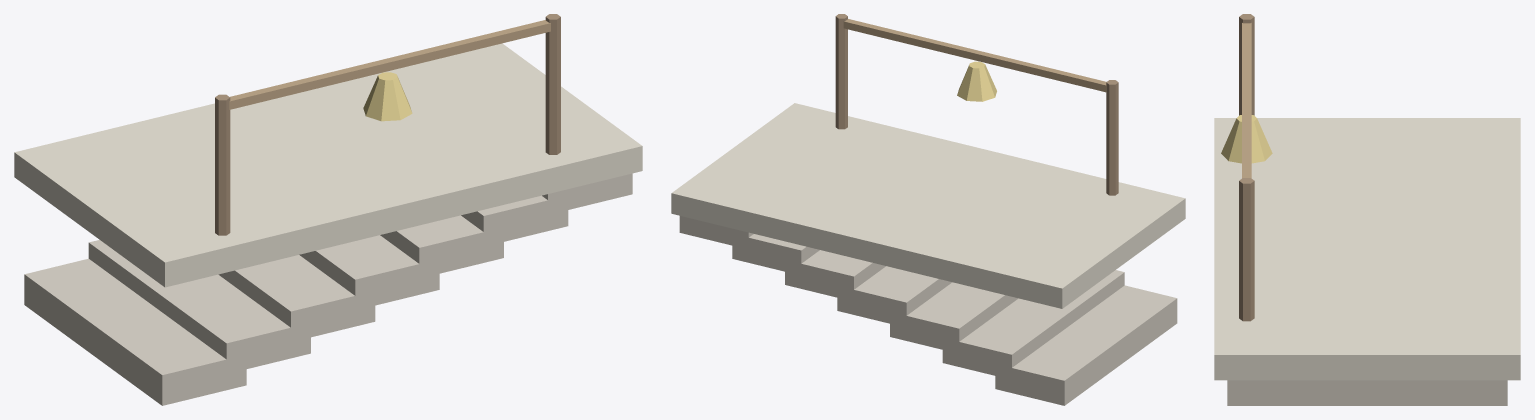
The model's file is bellmakers_stair_near-B_xurW0-.glb.
The picture shows the model from 3 angles, left to right: view 1: azimuth 30°, elevation 25°; view 2: azimuth 150°, elevation 25°; view 3: azimuth 270°, elevation 25°; orthographic projection. The views are drawn at different scales.
Parts seen in each view (by area): view 1: bellmakers_stair_near; view 2: bellmakers_stair_near; view 3: bellmakers_stair_near.
Part boxes in pixels (<box>): bellmakers_stair_near: <box>14,14,642,405</box>; bellmakers_stair_near: <box>671,14,1185,405</box>; bellmakers_stair_near: <box>1214,14,1520,405</box>.
Bounding box in the file's own units: 13 × 7.4 × 7.1.
